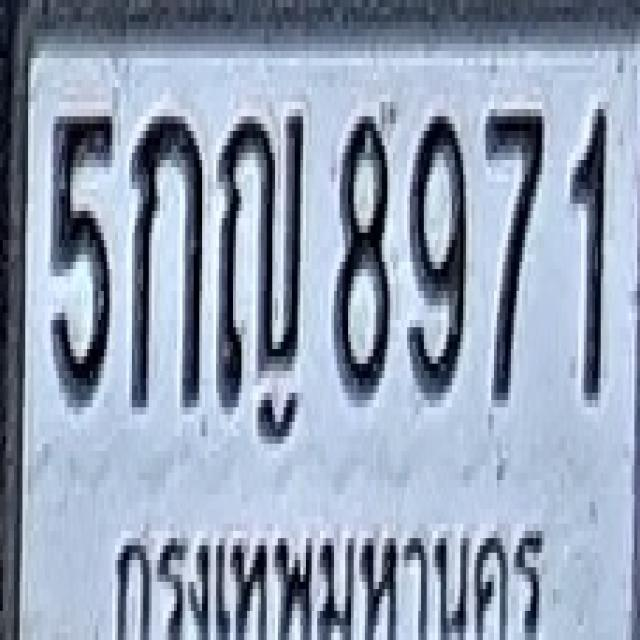1: (570, 102, 606, 400)
5: (51, 109, 112, 407)
7: (484, 102, 543, 400)
8: (332, 109, 388, 400)
9: (407, 113, 466, 396)
A01: (130, 109, 200, 407)
A13: (218, 105, 304, 404)
BKK: (111, 503, 548, 640)
